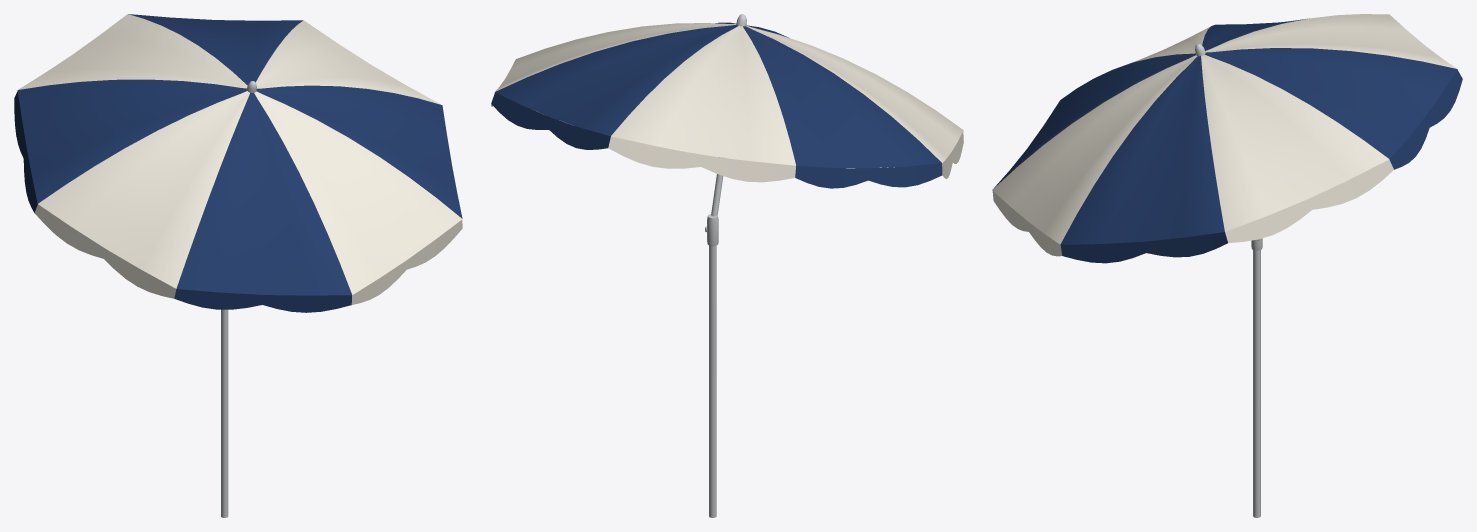
Rendered from umbrella_a.glb.
3 renders of one model, left to right at view 1: azimuth 30°, elevation 25°; view 2: azimuth 150°, elevation 25°; view 3: azimuth 270°, elevation 25°, orthographic. The views are drawn at different scales.
Parts seen in each view (by area): view 1: umbrella_a; view 2: umbrella_a; view 3: umbrella_a.
Boxes of the visible parts, x1,y1,x2,y2 form: umbrella_a: (14,14,462,517); umbrella_a: (491,14,963,517); umbrella_a: (992,14,1462,517).
Size of the model in its own units: 2.02 by 2.15 by 1.94.
